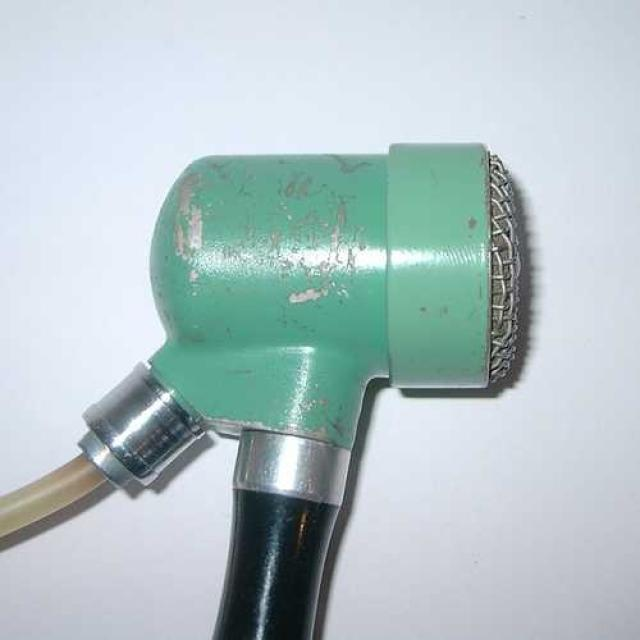microphone: (73, 115, 566, 477)
